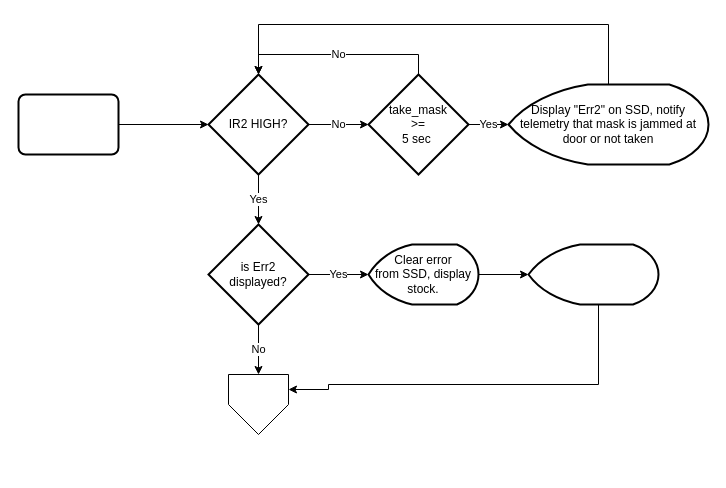
Some shapes in this 726 by 488 pixel diagram are drawn without their labels. Here are the shapes that lost their labels. From the top down, the centre of each, then its label:
(x=68, y=124): Begin take_mask timer
(x=593, y=274): Notify telemetry that jam is cleared
(x=258, y=404): Resume state machine loop. (See Logic Flow 1.0.)
